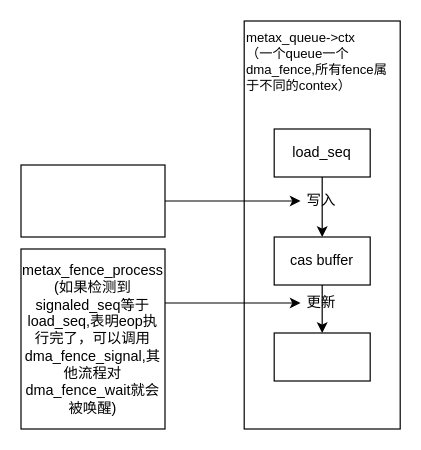
This 421x450 diagram has some shape labels left out. The shapes that lost their labels are listed below. From the top down, each one's box as (x1, y1, x2, y2) in pixels, then its label:
(20, 164, 165, 237): cas pkt执行
(273, 332, 370, 381): signaled_seq ( load_seq - 1 )
